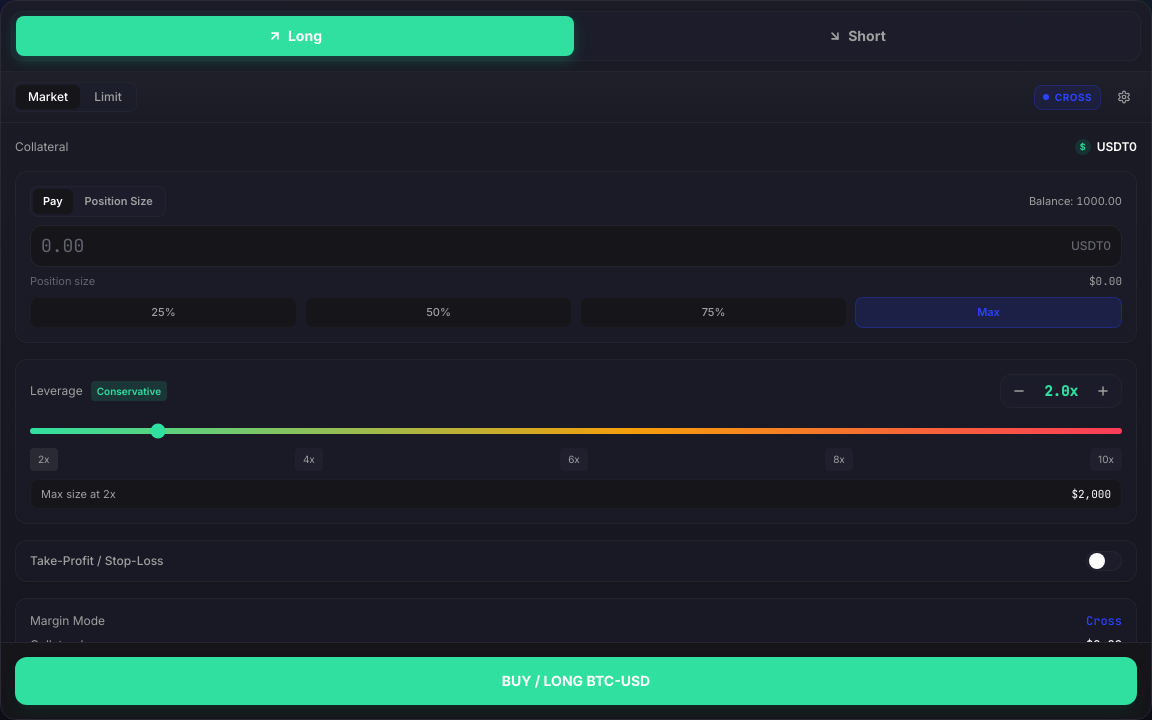
Scenario: TradingForm › correctly calculates notional value and fees in summary
This screenshot has width=1152, height=720.
Type "100" into the number field with test id "margin-input" at (552, 246), box left=41, top=232, right=1063, bottom=260
(page scrolled)
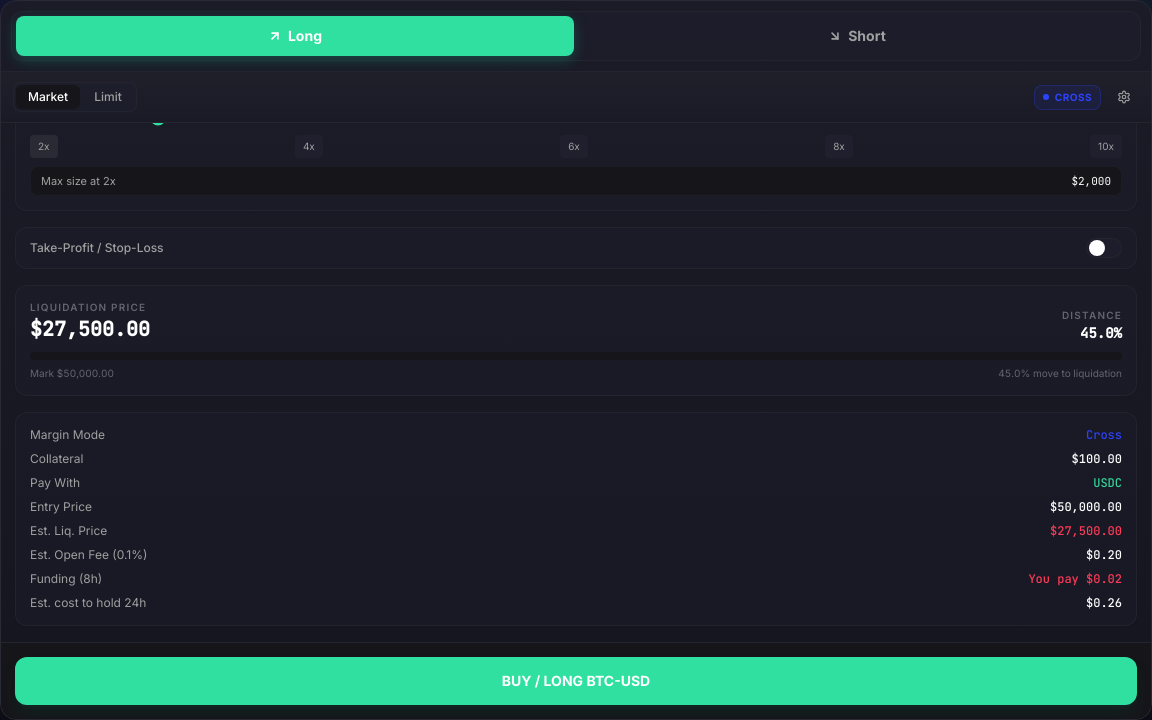
Result: the text "$100.00" is shown at left=1072, top=451, right=1122, bottom=467
Result: the text "Est. Open Fee (0.1%)" is shown at left=30, top=547, right=147, bottom=563
